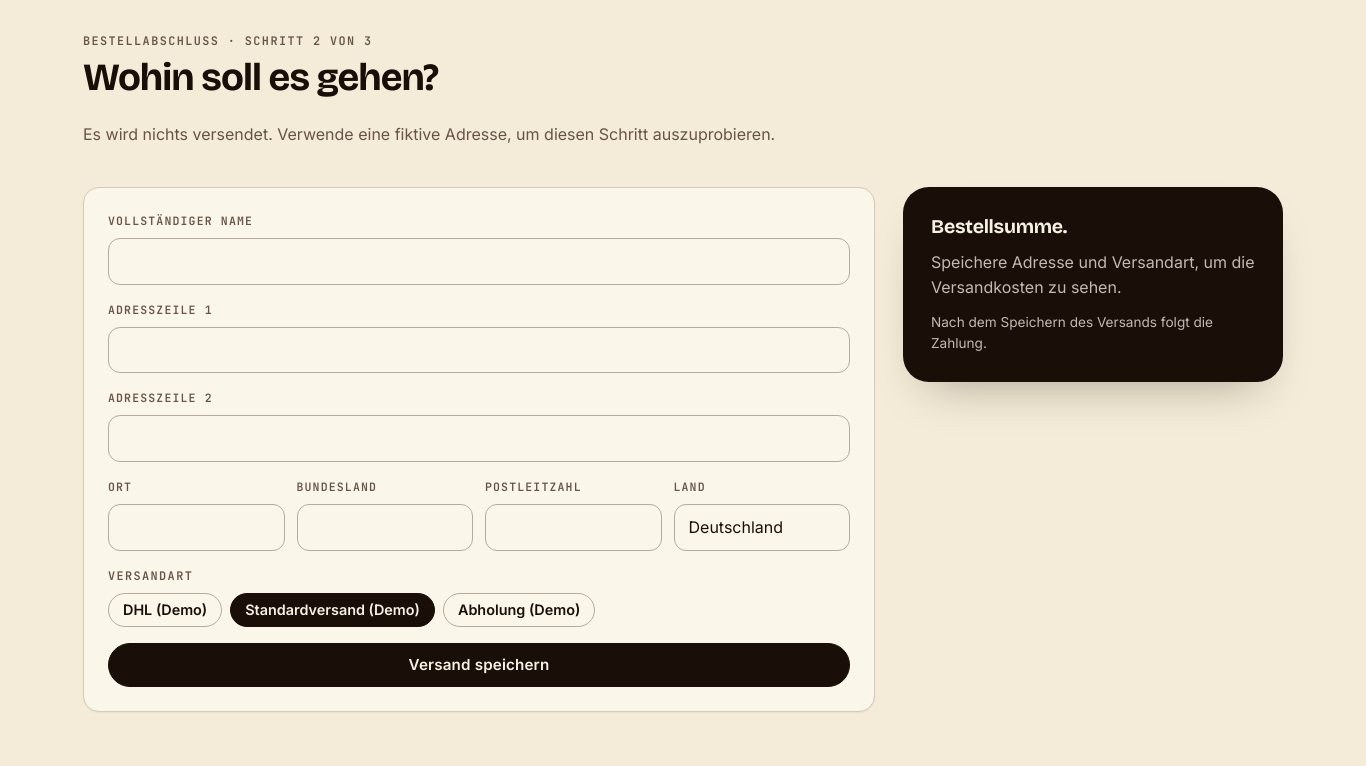
German commerce keeps API values unchanged › translates shipping labels and validation without translating the method value
Click the button "Versand speichern": (479, 665) [108, 643, 850, 687]
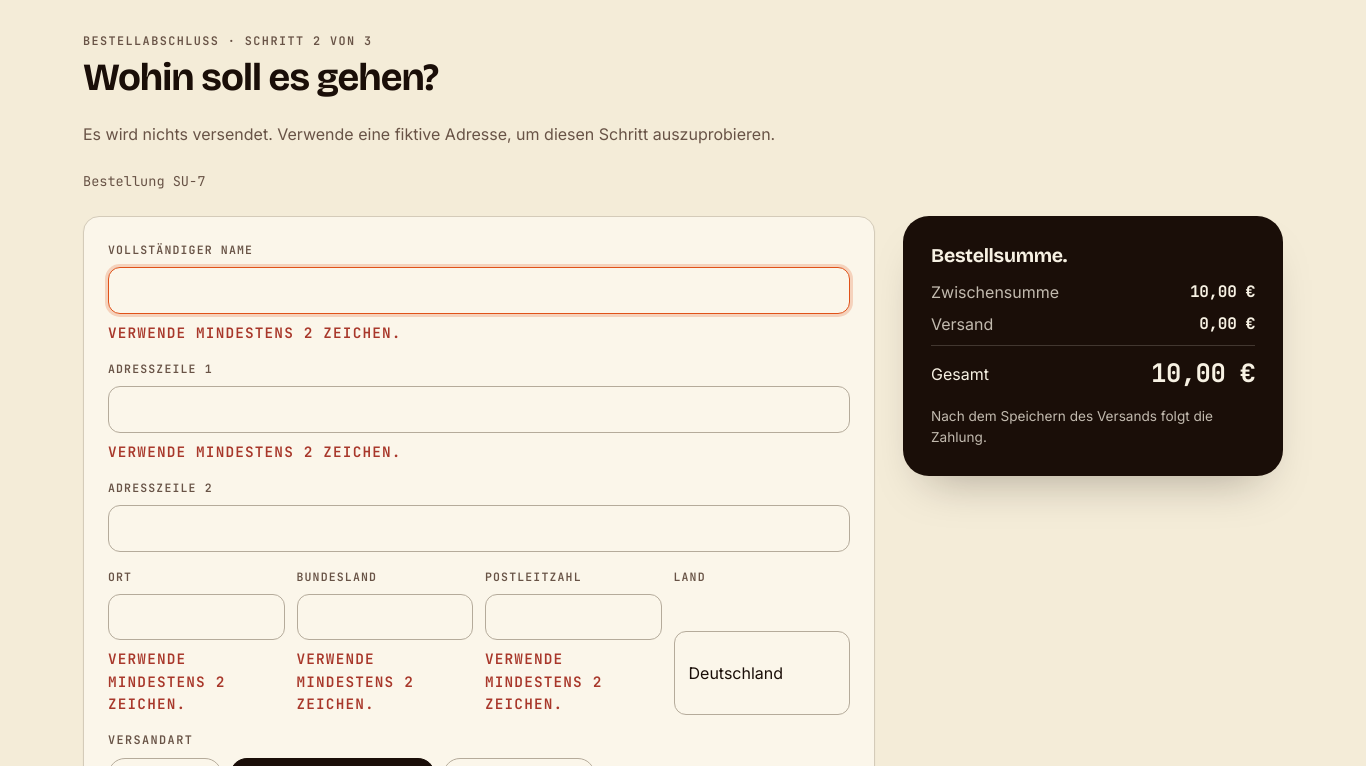
Expected: the text "Verwende mindestens 2 Zeichen." below "Vollständiger Name" is shown, [108, 323, 402, 342]
